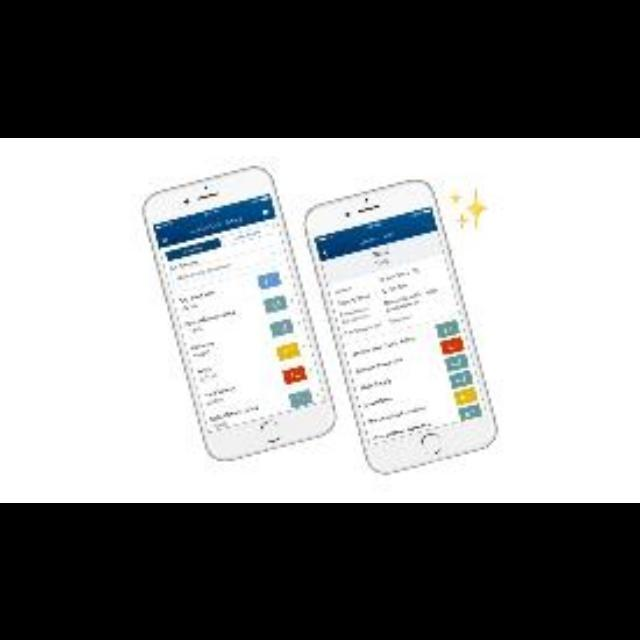Phone: (144, 168, 336, 460), (305, 176, 495, 469)
